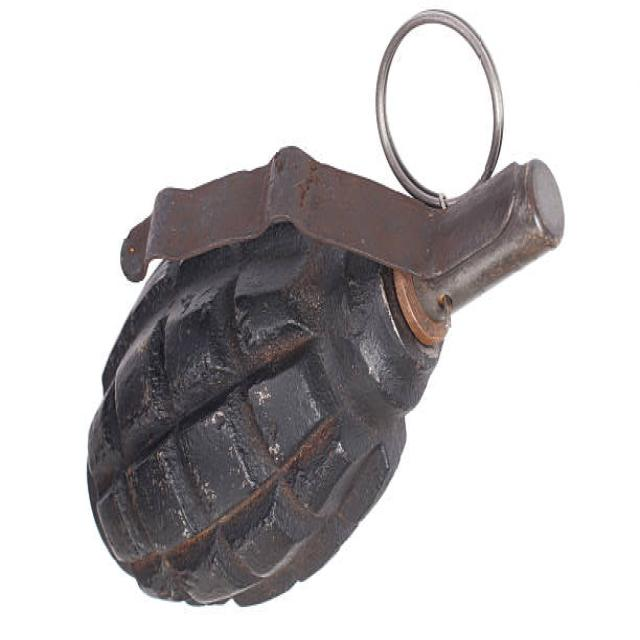grenade: (87, 6, 570, 623)
